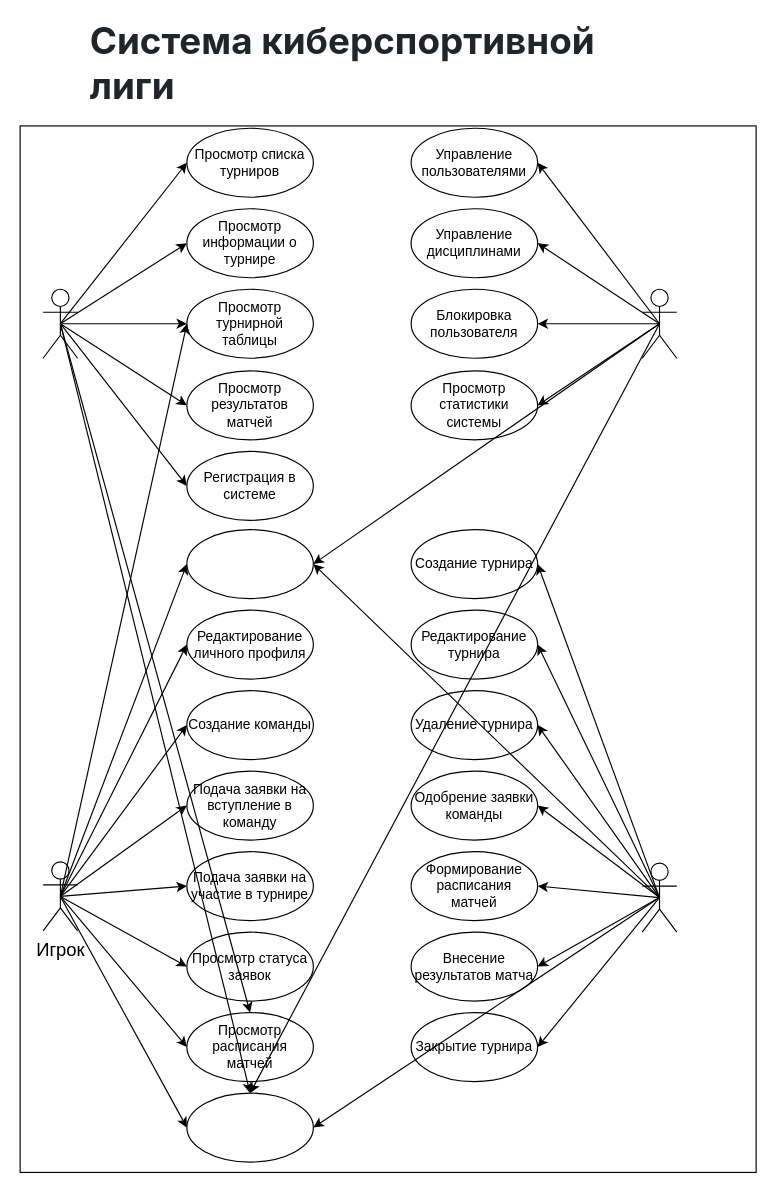
Some shapes in this 776 by 1193 pixel diagram are drawn without their labels. Here are the shapes that lost their labels. From the top down, the centre of each, then its label:
At (60,323): "Гость".
At (659,323): "Администратор".
At (249,563): "Авторизация в системе".
At (659,897): "Организатор турнира".
At (249,1127): "Выход из системы".
